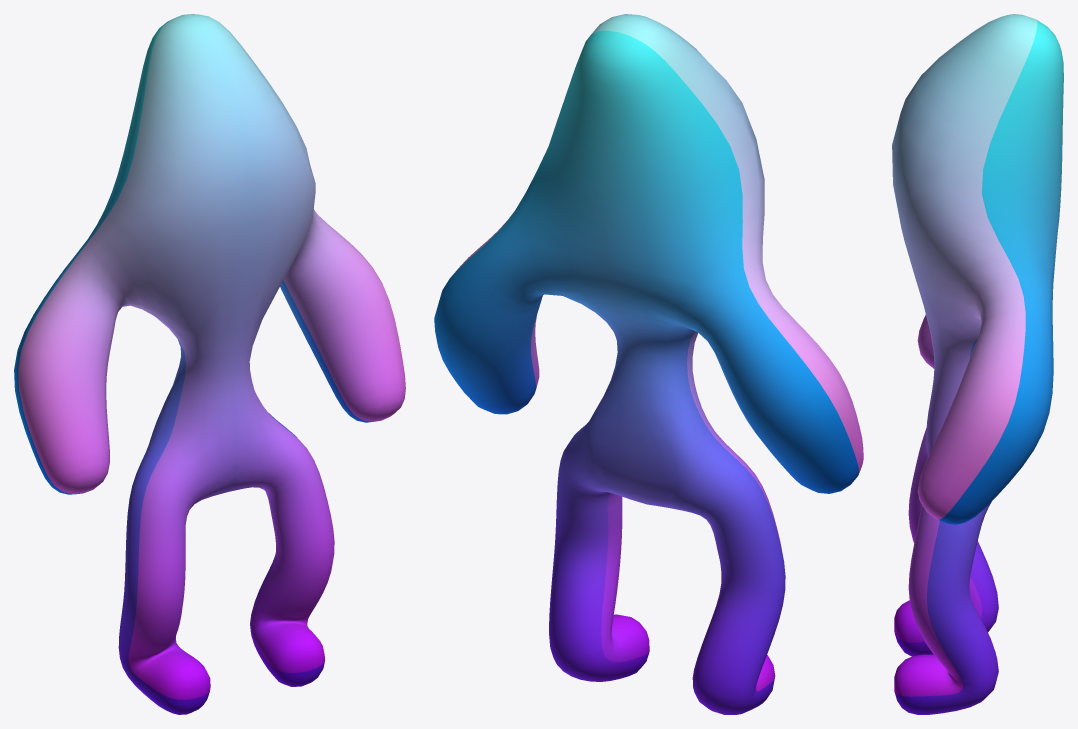
File: mecha_voidling.glb
The picture shows the model from 3 angles, left to right: view 1: azimuth 30°, elevation 25°; view 2: azimuth 150°, elevation 25°; view 3: azimuth 270°, elevation 25°; orthographic projection. The views are drawn at different scales.
Visible parts, largest first — view 1: mech_voidling; view 2: mech_voidling; view 3: mech_voidling.
Part boxes in pixels (<box>): mech_voidling: <box>14,14,405,714</box>; mech_voidling: <box>434,14,863,714</box>; mech_voidling: <box>892,14,1063,714</box>.
Bounding box in the file's own units: 3.25 × 5.49 × 1.29.
Materials: 1 (1 with a texture image).
